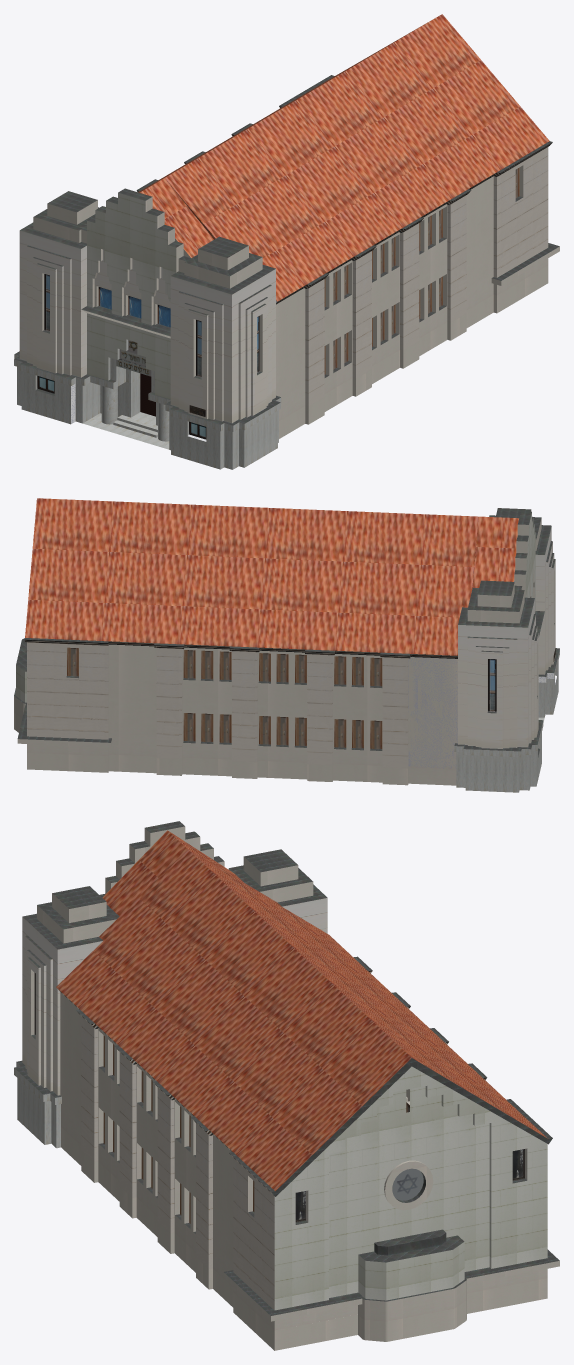
3 renders of one model, top to bottom at view 1: azimuth 30°, elevation 25°; view 2: azimuth 150°, elevation 25°; view 3: azimuth 270°, elevation 25°, orthographic. The views are drawn at different scales.
Parts seen in each view (by area): view 1: SketchUp (×22); view 2: SketchUp (×34); view 3: SketchUp (×26).
Part boxes in pixels (x1,y1,x2,y2): SketchUp (×22): (14,14,559,469); SketchUp (×34): (14,498,559,792); SketchUp (×26): (14,826,559,1350).
Size of the model in its own units: 759 by 590 by 320.
Materials: 25 (23 with a texture image).
